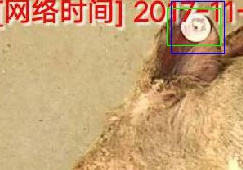text: (167, 8, 220, 45)
